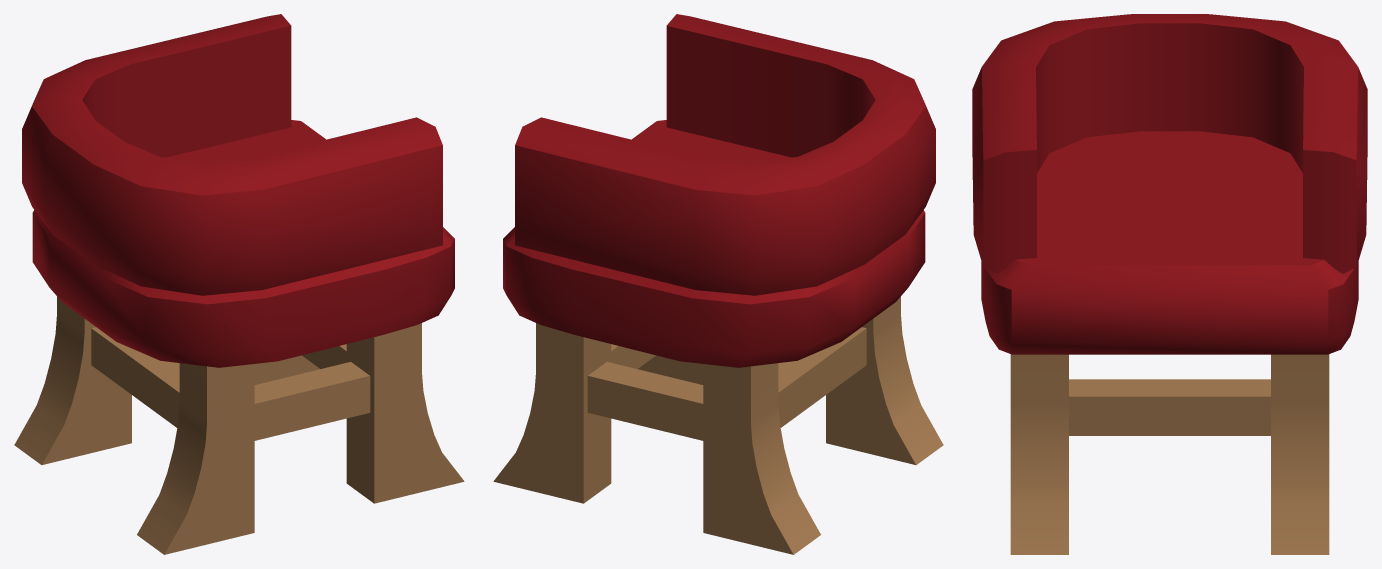
File: Chair 2.glb
The picture shows the model from 3 angles, left to right: view 1: azimuth 30°, elevation 25°; view 2: azimuth 150°, elevation 25°; view 3: azimuth 270°, elevation 25°; orthographic projection. The views are drawn at different scales.
Visible parts, largest first — view 1: Environment_Chair2; view 2: Environment_Chair2; view 3: Environment_Chair2.
Boxes of the visible parts, box(x1,y1,x2,y2) form: Environment_Chair2: box(14, 14, 464, 554); Environment_Chair2: box(493, 14, 943, 554); Environment_Chair2: box(972, 14, 1367, 554).
Bounding box in the file's own units: 0.9825 × 1.05 × 0.977.
1 material, 1 textured.
